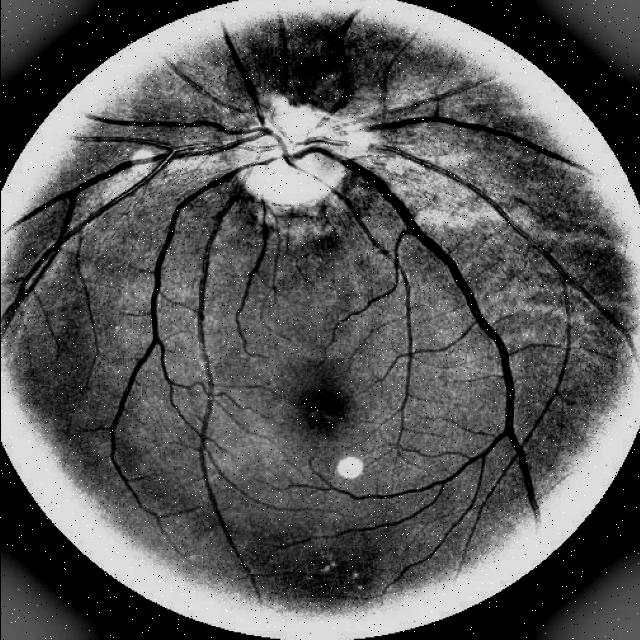Macula: (292, 364, 349, 437)
Nerves: (50, 108, 586, 522)
Optic Disk: (237, 93, 372, 210)
